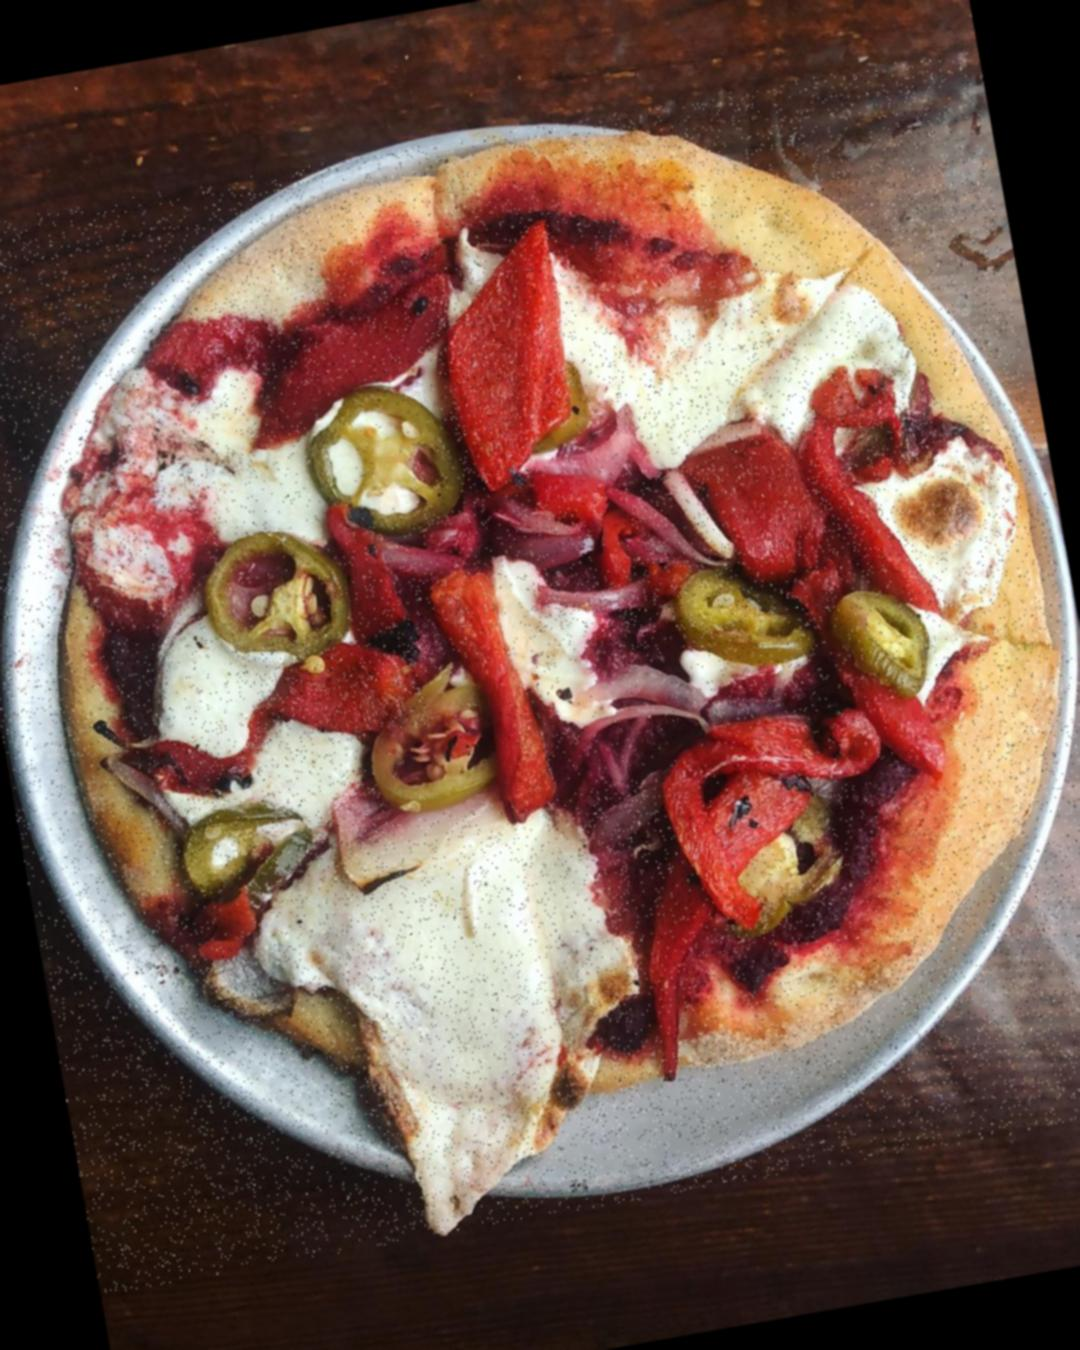Cheese: (318, 842, 588, 1182), (622, 289, 804, 443), (904, 474, 1012, 611), (188, 425, 314, 529)
Onion: (551, 645, 723, 797), (624, 466, 745, 591), (528, 398, 672, 499), (365, 500, 508, 600), (479, 483, 596, 593), (579, 773, 674, 881), (528, 564, 662, 640), (320, 765, 395, 876)
Peppers: (597, 758, 856, 1089), (641, 693, 920, 950), (418, 218, 597, 488), (793, 354, 951, 636), (425, 553, 557, 834), (299, 363, 466, 548), (231, 618, 429, 758), (360, 660, 523, 822), (191, 520, 364, 671), (673, 415, 827, 584), (170, 787, 321, 922), (838, 648, 957, 800), (821, 569, 937, 704), (532, 453, 634, 540), (518, 366, 600, 454), (584, 492, 646, 596), (634, 531, 712, 611), (191, 890, 260, 968)
Pizza: (0, 48, 1080, 1294)
